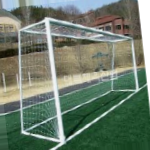goals: (16, 16, 140, 142)
